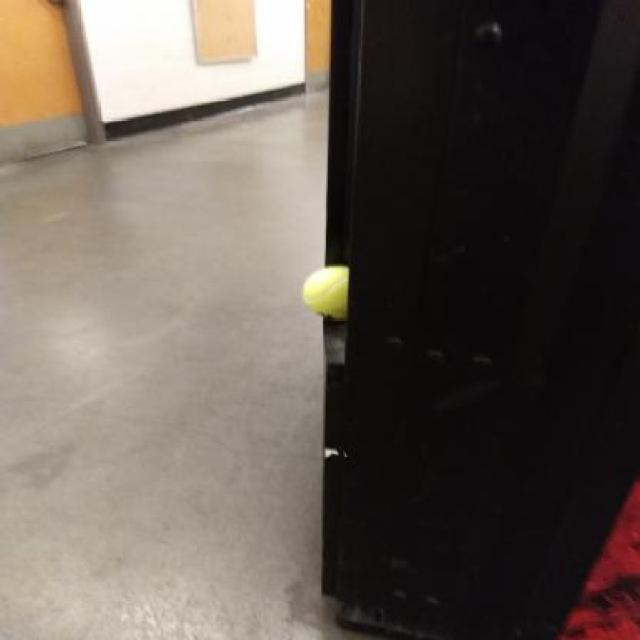Tennis_Ball: (308, 268, 345, 325)
